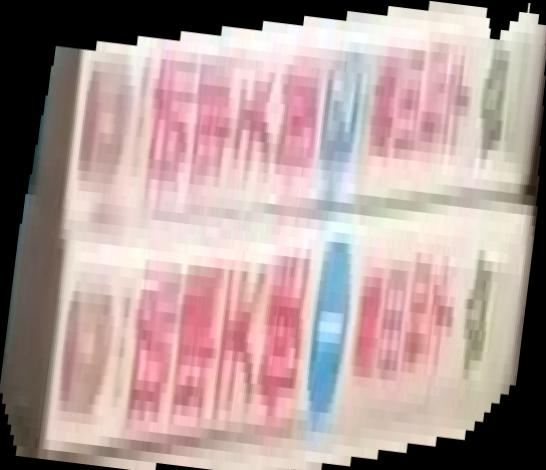flat: (1, 1, 546, 470)
